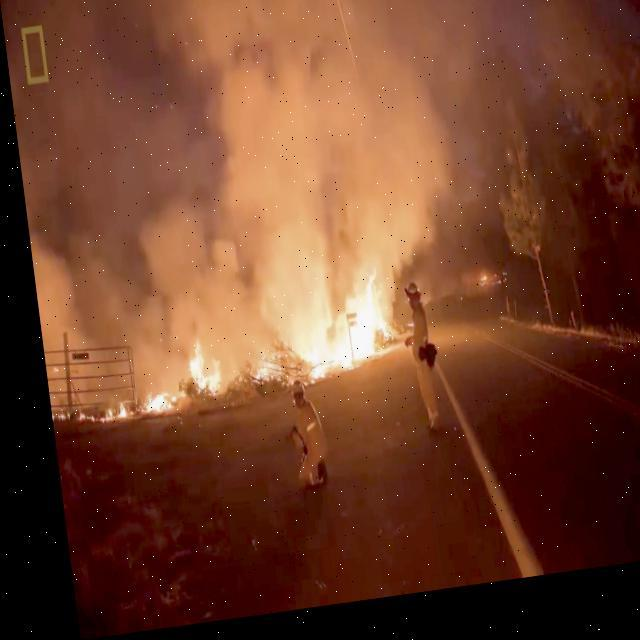Fire: (288, 281, 384, 392), (179, 340, 220, 402), (67, 406, 117, 426), (130, 392, 164, 420)
